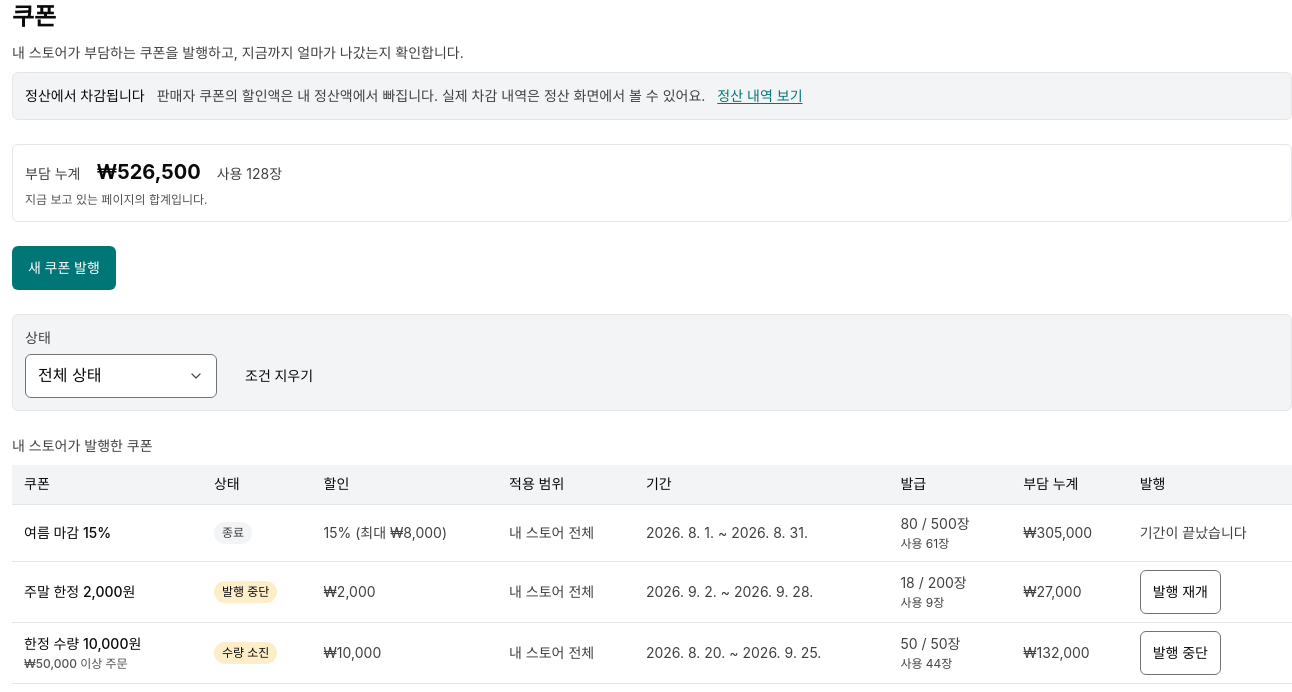
Test: F1 — 범위 제한 › explains why 카테고리 is not on offer
Click the button "새 쿠폰 발행": (64,268) [12,246,116,290]
(page scrolled)
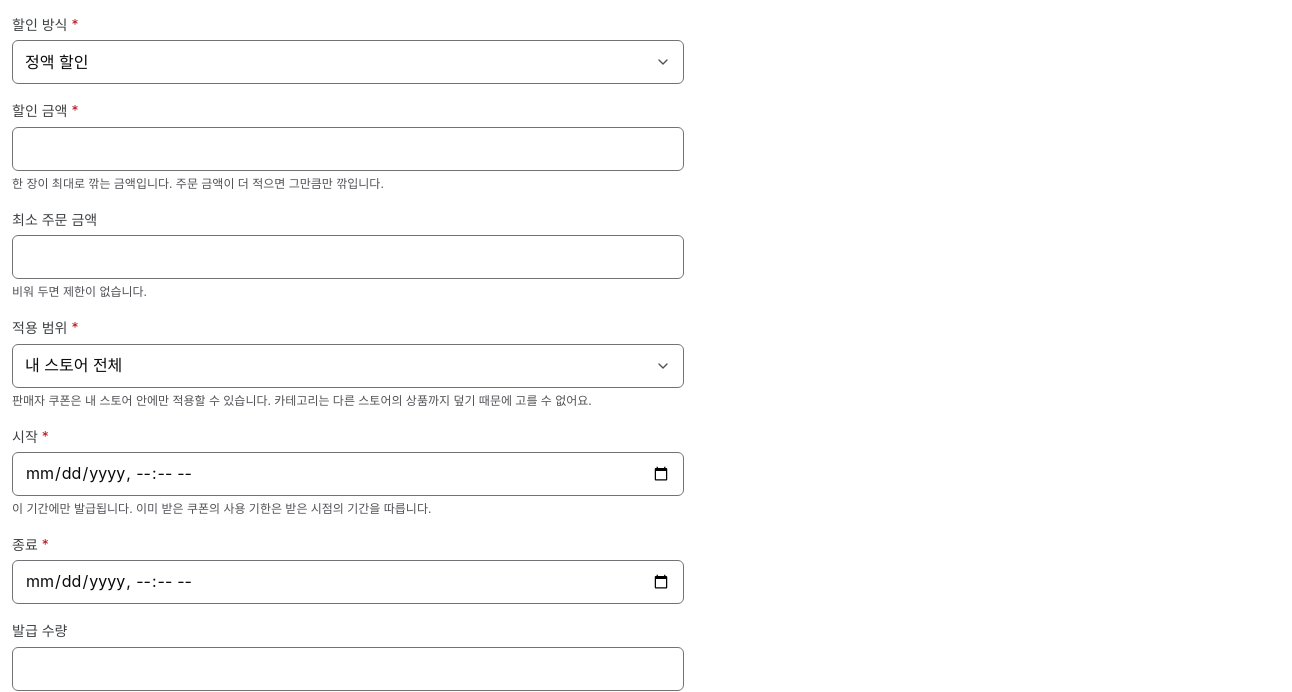
Now the text "판매자 쿠폰은 내 스토어 안에만 적용할 수 있습니다. 카테고리는 다른 스토어의 상품까지 덮기 때문에 고를 수 없어요." is shown, box [12,392,684,410]
